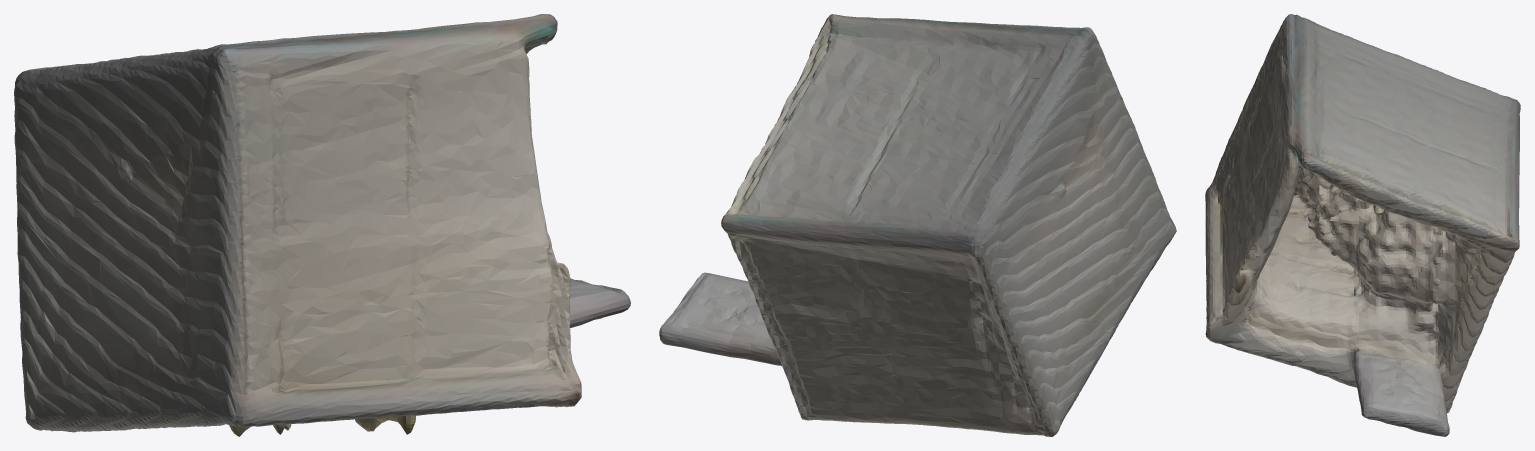
The model's file is stellar-night-stand-in-high-gloss-white.glb.
The picture shows the model from 3 angles, left to right: view 1: azimuth 30°, elevation 25°; view 2: azimuth 150°, elevation 25°; view 3: azimuth 270°, elevation 25°; orthographic projection. The views are drawn at different scales.
Parts seen in each view (by area): view 1: orient; view 2: orient; view 3: orient.
Boxes of the visible parts, left/top/right/bottom form: orient: left=14, top=14, right=630, bottom=436; orient: left=659, top=14, right=1176, bottom=436; orient: left=1205, top=14, right=1520, bottom=436.
Bounding box in the file's own units: 0.504 × 0.4499 × 0.402.
